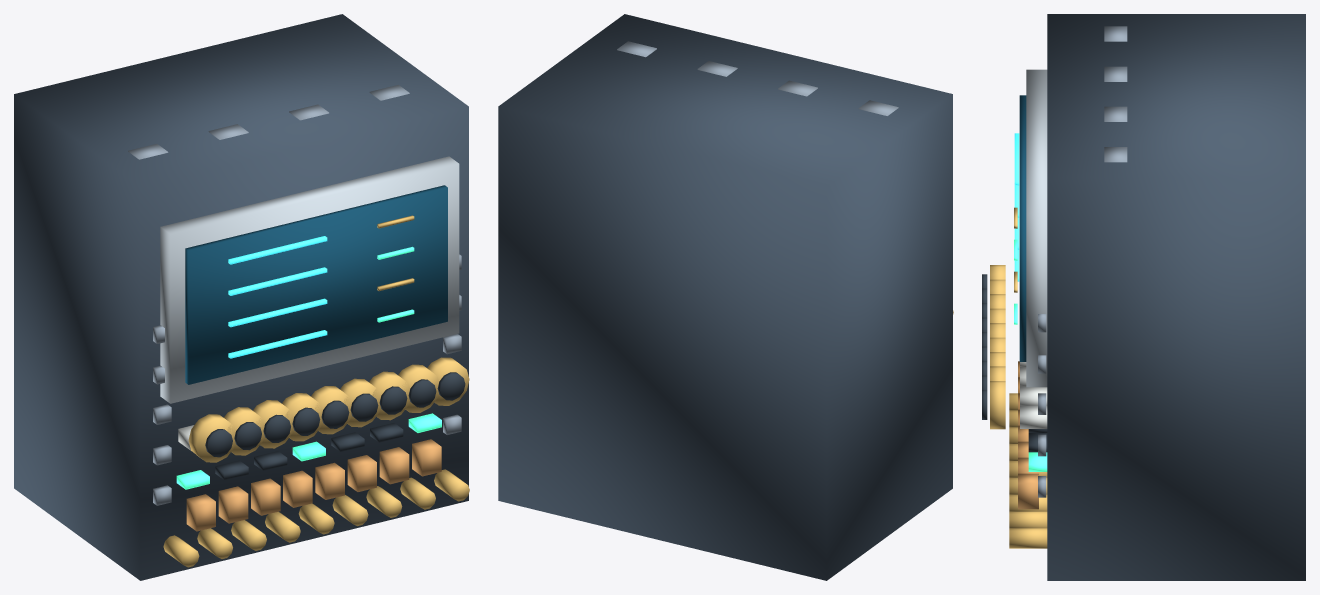
File: 78_L88_Protected5VControlSupply.glb
The picture shows the model from 3 angles, left to right: view 1: azimuth 30°, elevation 25°; view 2: azimuth 150°, elevation 25°; view 3: azimuth 270°, elevation 25°; orthographic projection. The views are drawn at different scales.
Parts seen in each view (by area): view 1: L87_Protected5VControlSupply_Part_0000, L87_Protected5VControlSupply_Part_0002, L87_Protected5VControlSupply_Part_0001, L87_Protected5VControlSupply_Part_0009, L87_Protected5VControlSupply_Part_0004, L87_Protected5VControlSupply_Part_0008, L87_Protected5VControlSupply_Part_0003, L87_Protected5VControlSupply_Part_0007, L87_Protected5VControlSupply_Part_0005, L87_Protected5VControlSupply_Part_0010, L87_Protected5VControlSupply_Part_0022, L87_Protected5VControlSupply_Part_0026 (+15 smaller); view 2: L87_Protected5VControlSupply_Part_0000, L87_Protected5VControlSupply_Part_0008; view 3: L87_Protected5VControlSupply_Part_0000, L87_Protected5VControlSupply_Part_0001, L87_Protected5VControlSupply_Part_0004, L87_Protected5VControlSupply_Part_0008, L87_Protected5VControlSupply_Part_0002, L87_Protected5VControlSupply_Part_0009, L87_Protected5VControlSupply_Part_0006, L87_Protected5VControlSupply_Part_0026, L87_Protected5VControlSupply_Part_0003, L87_Protected5VControlSupply_Part_0005.
Boxes of the visible parts, x1,y1,x2,y2 form: L87_Protected5VControlSupply_Part_0000: (14, 14, 468, 580); L87_Protected5VControlSupply_Part_0002: (185, 185, 447, 384); L87_Protected5VControlSupply_Part_0001: (160, 156, 459, 403); L87_Protected5VControlSupply_Part_0009: (186, 439, 441, 531); L87_Protected5VControlSupply_Part_0004: (163, 215, 469, 567); L87_Protected5VControlSupply_Part_0008: (128, 85, 461, 505); L87_Protected5VControlSupply_Part_0003: (228, 236, 327, 358); L87_Protected5VControlSupply_Part_0007: (215, 423, 403, 480); L87_Protected5VControlSupply_Part_0005: (176, 246, 441, 489); L87_Protected5VControlSupply_Part_0010: (188, 414, 235, 462); L87_Protected5VControlSupply_Part_0022: (369, 371, 409, 420); L87_Protected5VControlSupply_Part_0026: (427, 357, 469, 405); L87_Protected5VControlSupply_Part_0000: (498, 14, 952, 580); L87_Protected5VControlSupply_Part_0008: (617, 41, 898, 115); L87_Protected5VControlSupply_Part_0000: (1047, 14, 1305, 580); L87_Protected5VControlSupply_Part_0001: (1026, 69, 1047, 387); L87_Protected5VControlSupply_Part_0004: (1009, 207, 1047, 548); L87_Protected5VControlSupply_Part_0008: (1038, 26, 1127, 497); L87_Protected5VControlSupply_Part_0002: (1019, 95, 1026, 361); L87_Protected5VControlSupply_Part_0009: (1018, 361, 1038, 509); L87_Protected5VControlSupply_Part_0006: (1020, 362, 1047, 428); L87_Protected5VControlSupply_Part_0026: (990, 381, 1005, 429); L87_Protected5VControlSupply_Part_0003: (1014, 133, 1019, 281); L87_Protected5VControlSupply_Part_0005: (1014, 239, 1047, 471).
Size of the model in its own units: 1.04 by 1.2 by 0.8688.
